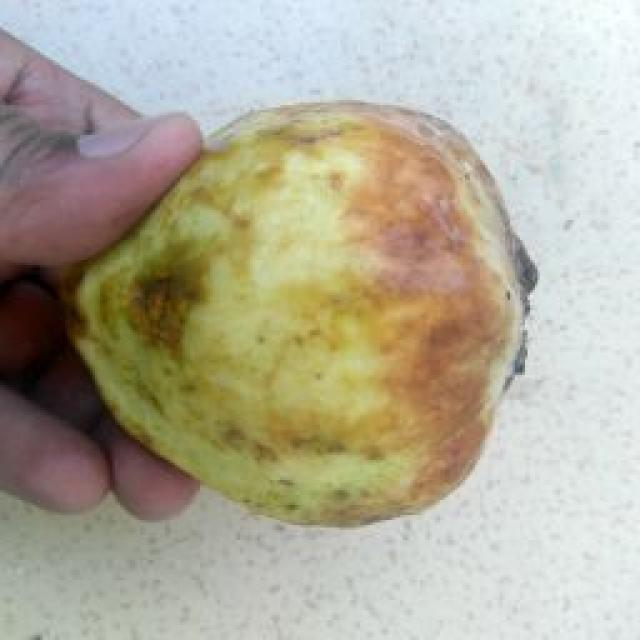Bad_Guava: (62, 102, 536, 524)
